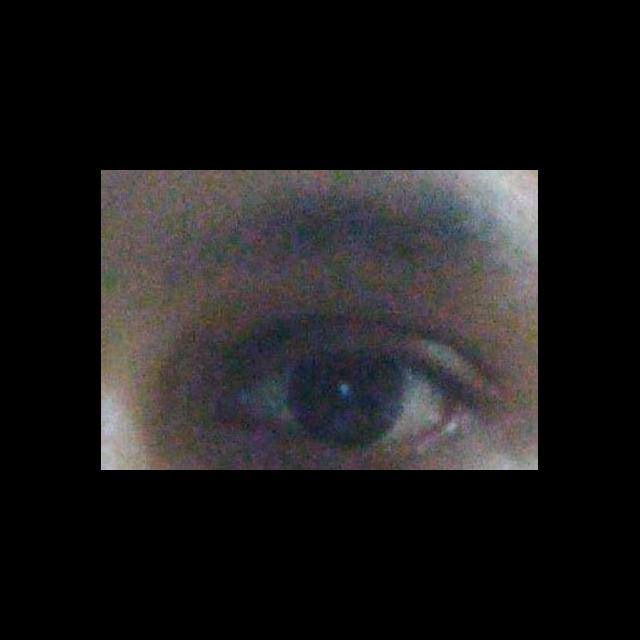eye: (253, 349, 452, 442)
iris: (289, 353, 404, 438)
